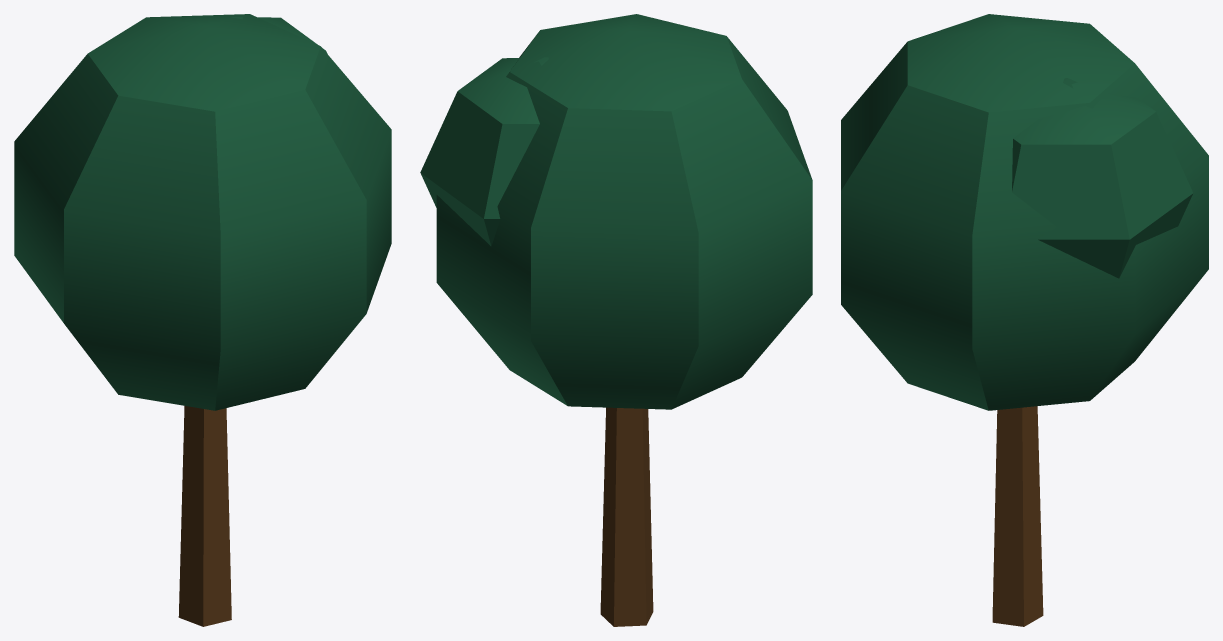
File: tree_round_lod1.glb
The picture shows the model from 3 angles, left to right: view 1: azimuth 30°, elevation 25°; view 2: azimuth 150°, elevation 25°; view 3: azimuth 270°, elevation 25°; orthographic projection.
Visible parts, largest first — view 1: leaf, wood; view 2: leaf, wood; view 3: leaf, wood.
Boxes of the visible parts, x1,y1,x2,y2 form: leaf: (14,14,391,410); wood: (178,406,231,626); leaf: (420,14,812,409); wood: (600,407,653,626); leaf: (841,14,1208,410); wood: (992,406,1043,626).
Bounding box in the file's own units: 2.97 × 5.1 × 2.89.
